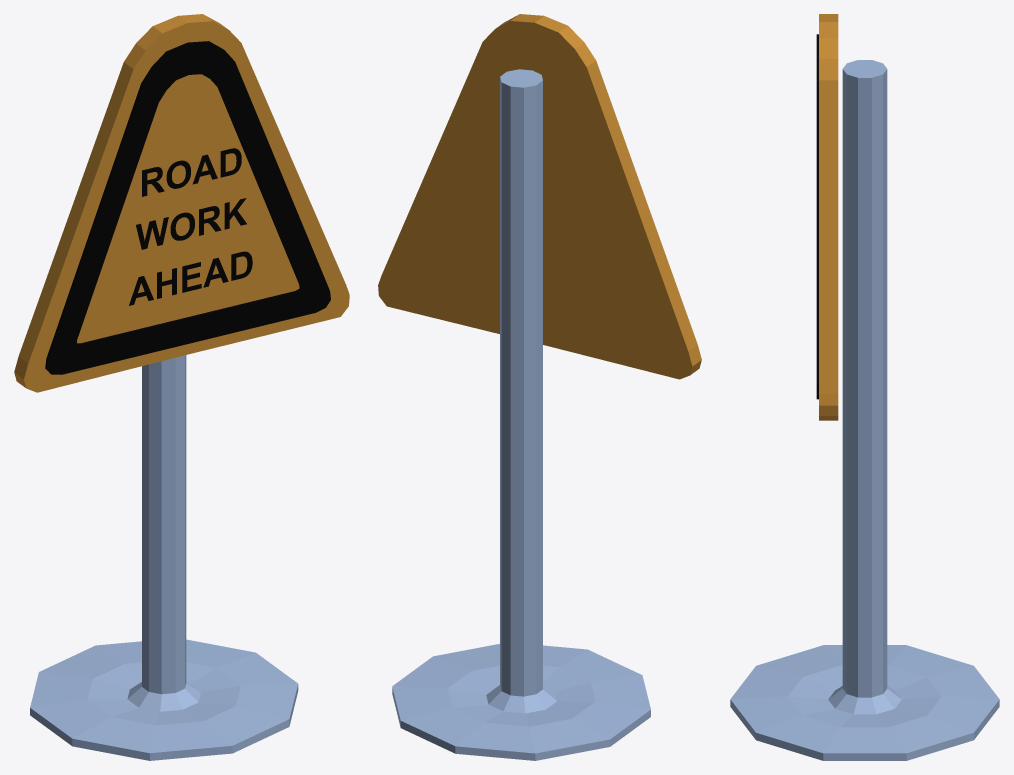
File: Sign_3.fbx
3 views of the same model, side by side, from view 1: azimuth 30°, elevation 25°; view 2: azimuth 150°, elevation 25°; view 3: azimuth 270°, elevation 25° (orthographic). The views are drawn at different scales.
Parts seen in each view (by area): view 1: Cylinder.008, Text.003; view 2: Cylinder.008; view 3: Cylinder.008.
Boxes of the visible parts, left/top/right/bottom form: Cylinder.008: left=14, top=14, right=349, bottom=760; Text.003: left=129, top=148, right=252, bottom=305; Cylinder.008: left=378, top=14, right=701, bottom=760; Cylinder.008: left=730, top=14, right=999, bottom=760.
Bounding box in the file's own units: 159 × 325 × 116.
